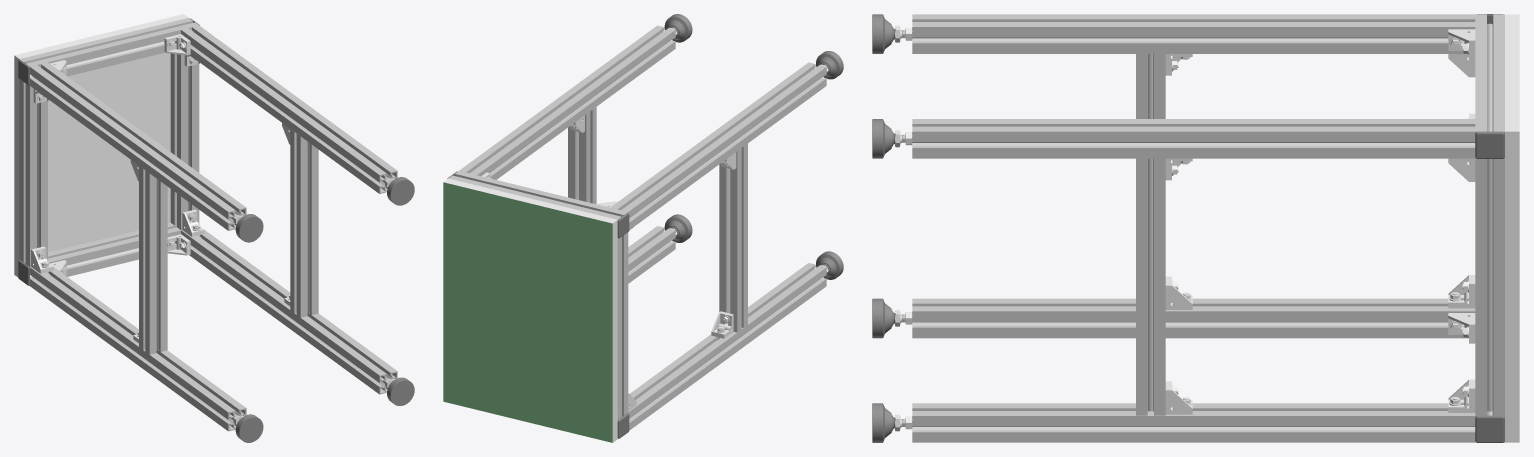
Rendered from Mesa_laser.glb.
3 renders of one model, left to right at view 1: azimuth 30°, elevation 25°; view 2: azimuth 150°, elevation 25°; view 3: azimuth 270°, elevation 25°, orthographic. The views are drawn at different scales.
Parts seen in each view (by area): view 1: mesa 2-1, load cell leveling foot.STEP-1/____-____2_1.STEP-1 (×4), Bosch Rexroth Assembly Technologies bf0712e8-da2e-3a23-89c0- (×4); view 2: mesa 2-1, load cell leveling foot.STEP-1/____-____2_1.STEP-1 (×4), Bosch Rexroth Assembly Technologies bf0712e8-da2e-3a23-89c0-; view 3: mesa 2-1, Bosch Rexroth Assembly Technologies bf0712e8-da2e-3a23-89c0- (×6), load cell leveling foot.STEP-1/____-____2_1.STEP-1 (×4), 8020 3054a823-fa12-391d-85c0-3145aee374f3-1, 8020 3054a823-fa12-391d-85c0-3145aee374f3-2.
Boxes of the visible parts, bbox=[...] form: mesa 2-1: bbox=[14, 14, 397, 431]; load cell leveling foot.STEP-1/____-____2_1.STEP-1 (×4): bbox=[233, 177, 414, 442]; Bosch Rexroth Assembly Technologies bf0712e8-da2e-3a23-89c0- (×4): bbox=[31, 34, 204, 274]; mesa 2-1: bbox=[443, 25, 826, 442]; load cell leveling foot.STEP-1/____-____2_1.STEP-1 (×4): bbox=[664, 14, 843, 279]; Bosch Rexroth Assembly Technologies bf0712e8-da2e-3a23-89c0-: bbox=[711, 311, 733, 340]; mesa 2-1: bbox=[912, 14, 1519, 442]; Bosch Rexroth Assembly Technologies bf0712e8-da2e-3a23-89c0- (×6): bbox=[1165, 29, 1475, 414]; load cell leveling foot.STEP-1/____-____2_1.STEP-1 (×4): bbox=[872, 14, 912, 442]; 8020 3054a823-fa12-391d-85c0-3145aee374f3-1: bbox=[1475, 131, 1504, 158]; 8020 3054a823-fa12-391d-85c0-3145aee374f3-2: bbox=[1475, 415, 1504, 442].
Bounding box in the file's own units: 0.435 × 0.535 × 0.98.
